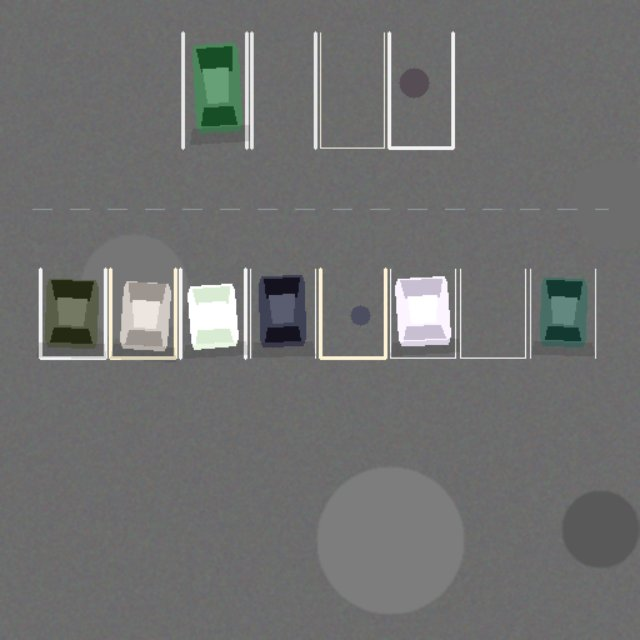space-empty: (251, 32, 315, 148), (320, 32, 384, 148), (389, 32, 453, 148), (320, 269, 385, 358), (460, 269, 525, 358)
space-occupied: (183, 32, 246, 148), (40, 269, 105, 358), (110, 269, 175, 358), (180, 269, 245, 358), (250, 269, 315, 358), (390, 269, 455, 358), (530, 269, 595, 358)
